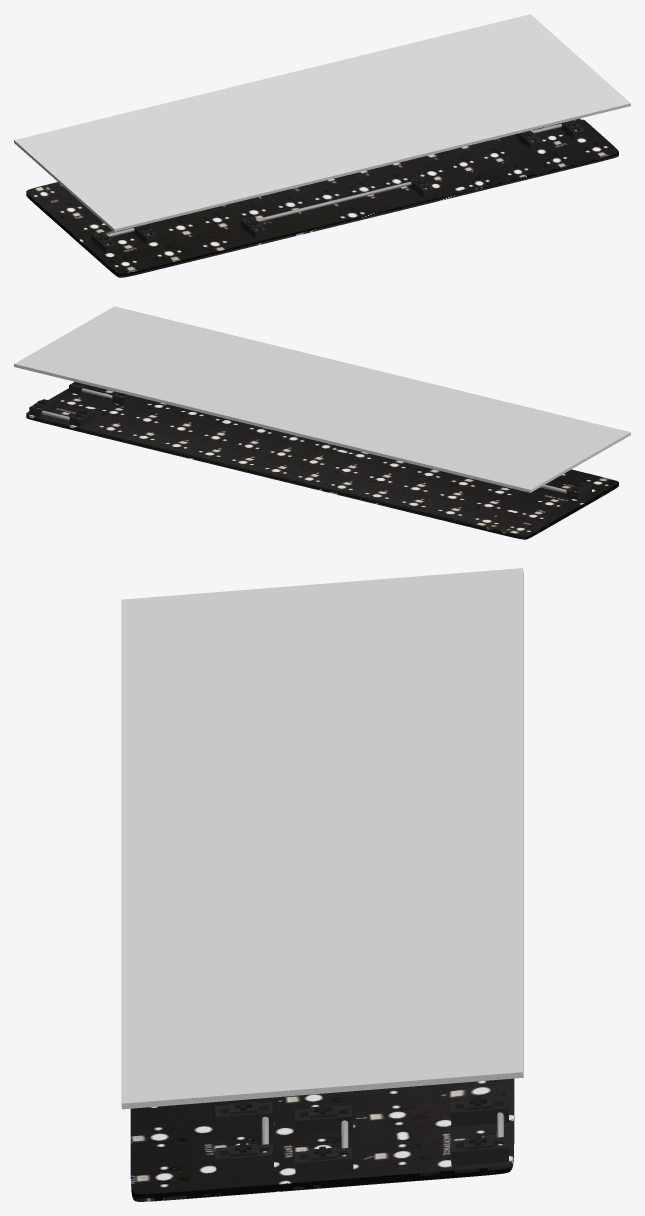
File: keyboard_ani_2.glb
The picture shows the model from 3 angles, top to bottom: view 1: azimuth 30°, elevation 25°; view 2: azimuth 150°, elevation 25°; view 3: azimuth 270°, elevation 25°; orthographic projection. The views are drawn at different scales.
Parts seen in each view (by area): view 1: 60 plate, 60 pcb, Cylinder.511; view 2: 60 plate, 60 pcb; view 3: 60 plate, 60 pcb, Cube.030, Cube.011, Cube.034, Cube.032, Cube.012, Cube.036.
Boxes of the visible parts, box(x1,y1,x2,y2) form: 60 plate: box(14, 14, 630, 231); 60 pcb: box(26, 118, 618, 277); Cylinder.511: box(256, 181, 427, 229); 60 plate: box(14, 306, 630, 492); 60 pcb: box(26, 386, 618, 539); 60 plate: box(121, 568, 523, 1109); 60 pcb: box(130, 1078, 514, 1201); Cube.030: box(294, 1147, 353, 1176); Cube.011: box(450, 1136, 508, 1165); Cube.034: box(215, 1144, 273, 1173); Cube.032: box(294, 1105, 353, 1134); Cube.012: box(450, 1097, 508, 1126); Cube.036: box(215, 1101, 273, 1130).
Bounding box in the file's own units: 0.2924 × 0.0374 × 0.0986.
Materials: 5 (1 with a texture image).
